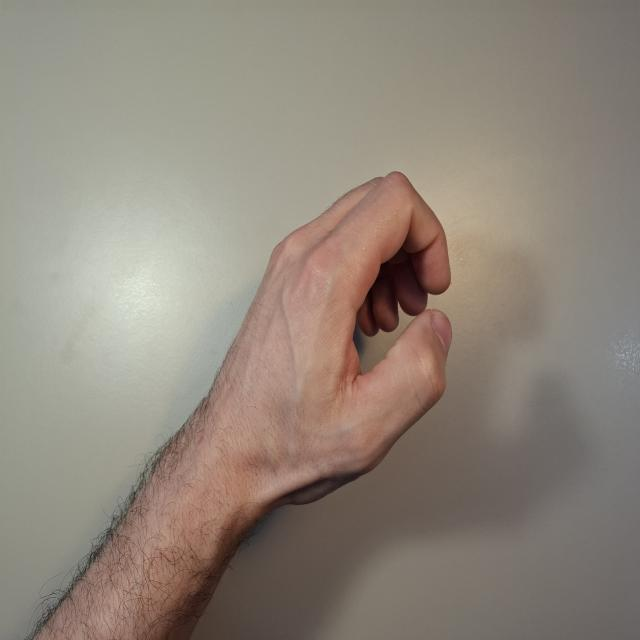glove_off: (215, 168, 455, 515)
